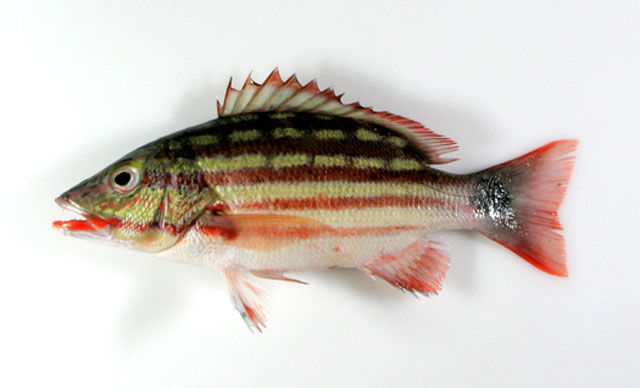fish: (51, 65, 581, 335)
